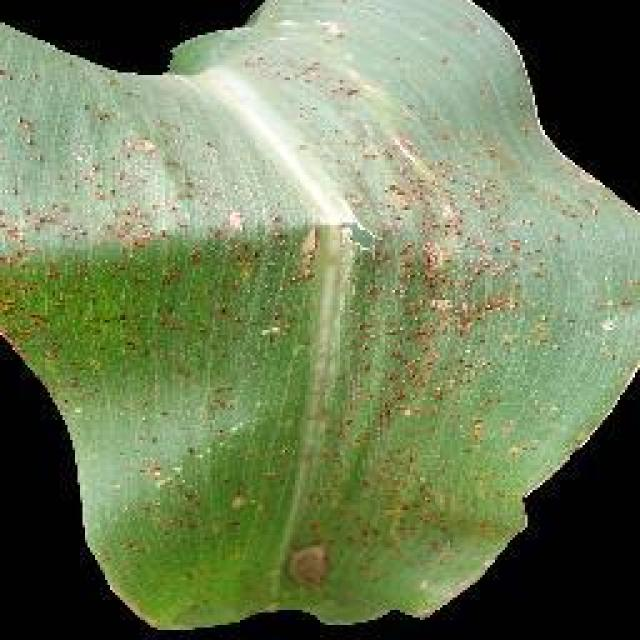Corn Common Rust: (73, 56, 572, 616)
